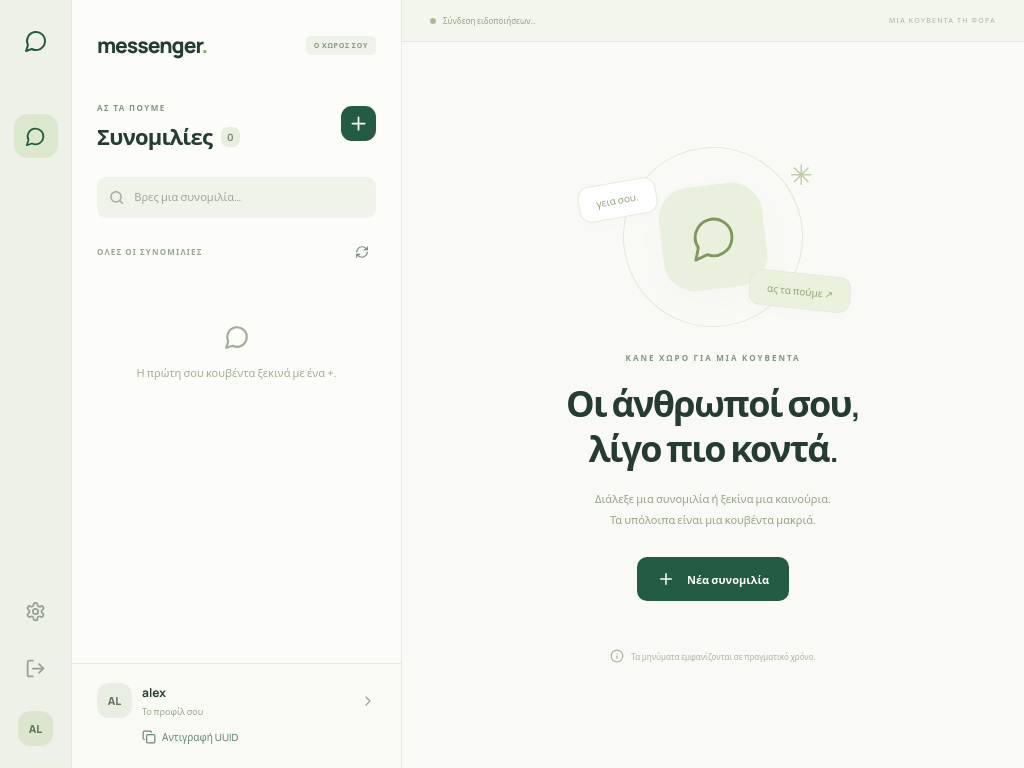
Test case: keeps the new-conversation dialog open when identity rejects a participant
Click the button named "Νέα συνομιλία" at (358, 123), box [341,106,376,140]
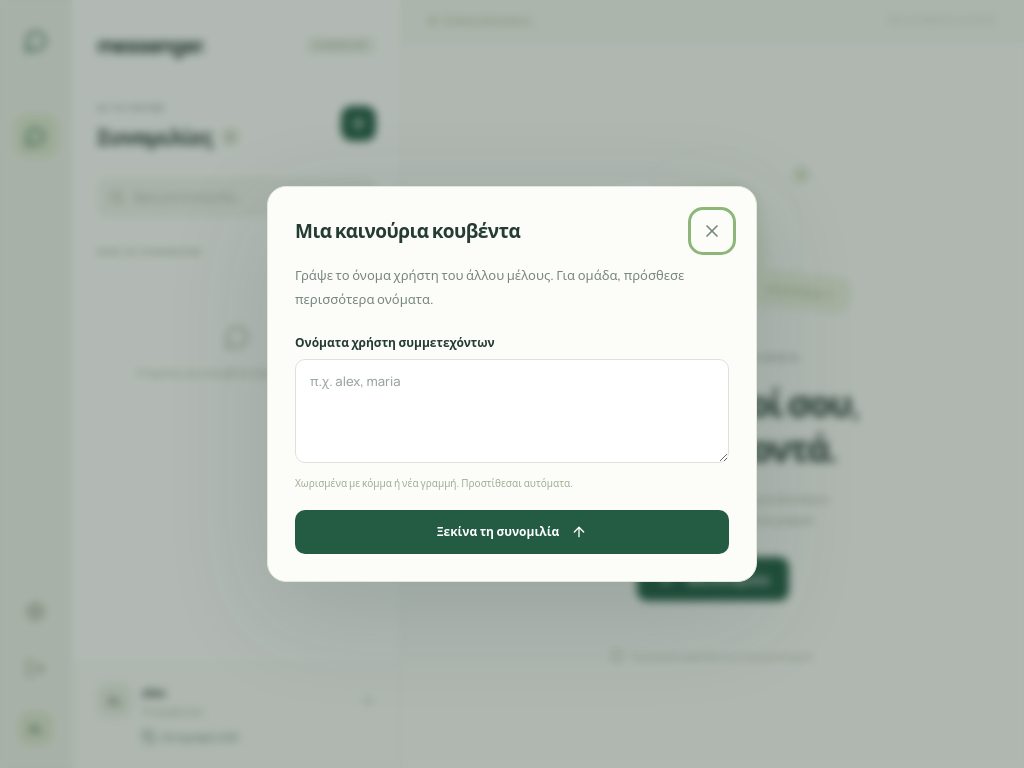
Type "maria" into the text box labelled "Ονόματα χρήστη συμμετεχόντων" at (512, 411), box [295,359,729,463]
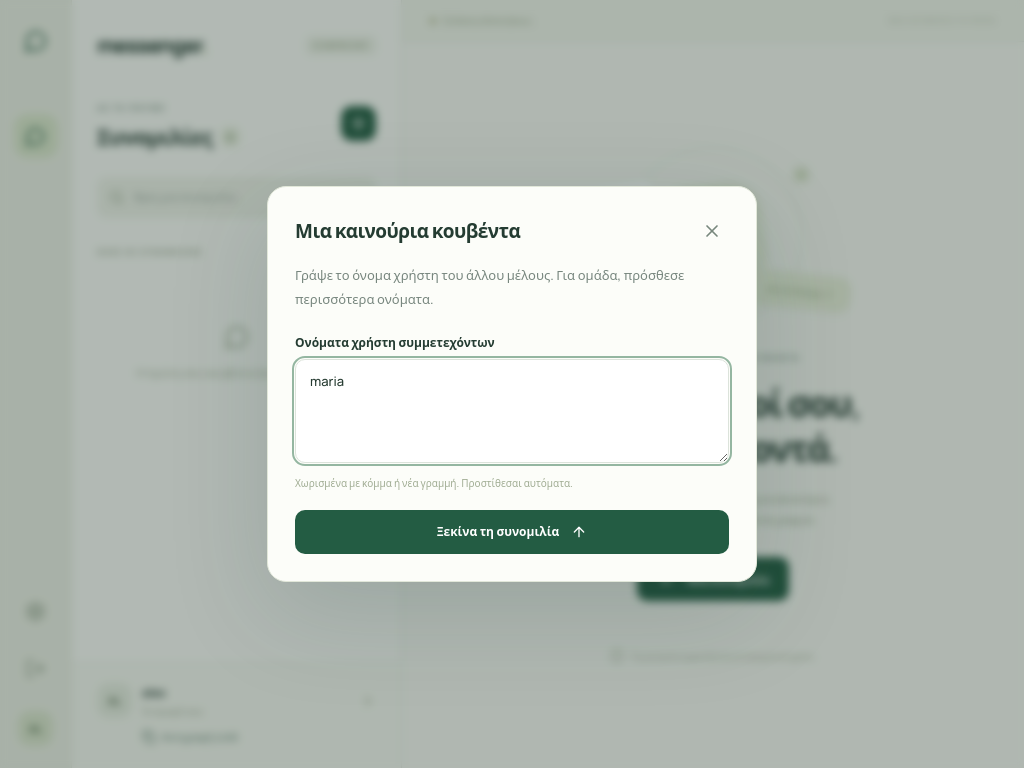
Click the button "Ξεκίνα τη συνομιλία" at (512, 532), box [295,510,729,554]
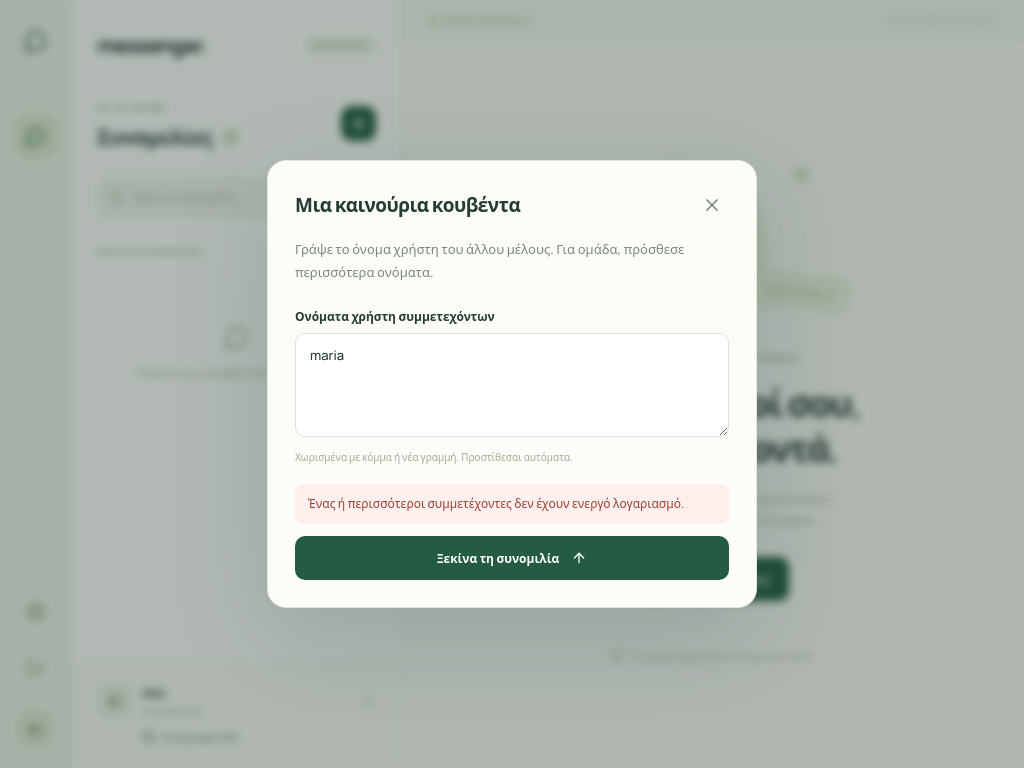
Expected: the dialog is shown, [267,160,757,608]
Expected: the text "Ένας ή περισσότεροι συμμετέχοντες δεν έχουν ενεργό λογαριασμό." is shown, [295,484,729,524]
